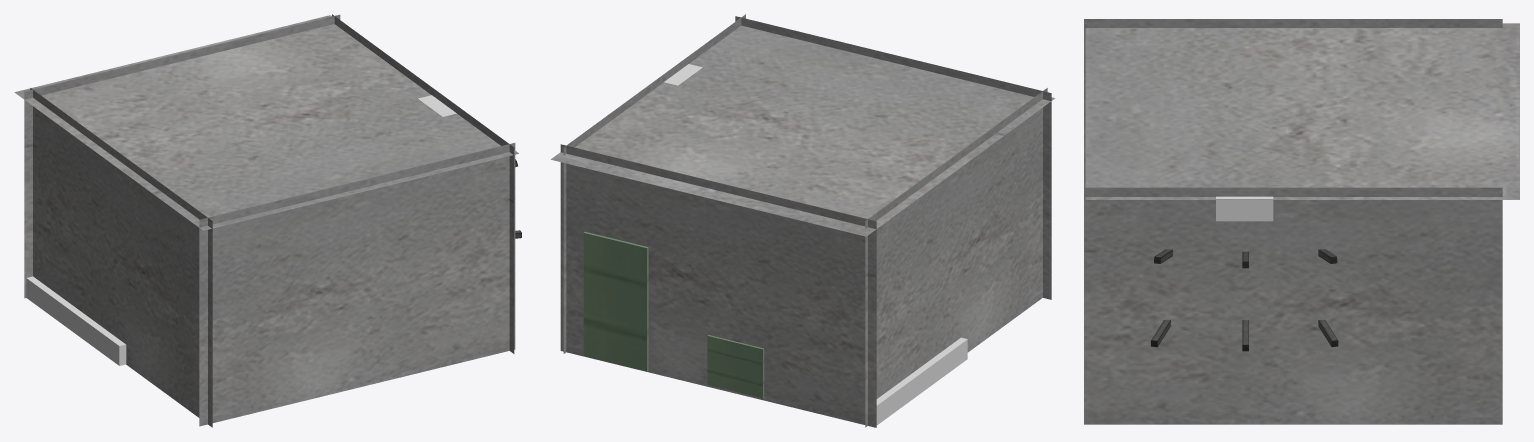
The model's file is RoomV1.fbx.
3 renders of one model, left to right at view 1: azimuth 30°, elevation 25°; view 2: azimuth 150°, elevation 25°; view 3: azimuth 270°, elevation 25°, orthographic. The views are drawn at different scales.
Parts seen in each view (by area): view 1: Plane.004, Plane.003, Plane.002, Plane.001, Plane, Cube.002; view 2: Plane.003, Plane.001, Plane.002, Cube, Plane.004, Cube.001, Cube.002, Plane; view 3: Plane, Plane.003, Plane.002, Cube.003.
Part boxes in pixels (box(x1,y1,x2,y2)): Plane.004: box(199, 143, 515, 426); Plane.003: box(14, 15, 518, 230); Plane.002: box(30, 88, 212, 427); Plane.001: box(24, 14, 340, 298); Plane: box(332, 14, 514, 353); Cube.002: box(26, 276, 126, 365); Plane.003: box(551, 25, 1055, 236); Plane.001: box(560, 144, 876, 427); Plane.002: box(865, 88, 1047, 427); Cube: box(583, 231, 648, 371); Plane.004: box(735, 16, 1051, 299); Cube.001: box(707, 335, 764, 398); Cube.002: box(876, 337, 967, 425); Plane: box(563, 14, 745, 353); Plane: box(1084, 187, 1502, 424); Plane.003: box(1085, 23, 1519, 199); Plane.002: box(1084, 19, 1502, 187); Cube.003: box(1216, 196, 1273, 221).
Bounding box in the file's own units: 1750 × 973 × 1621.
